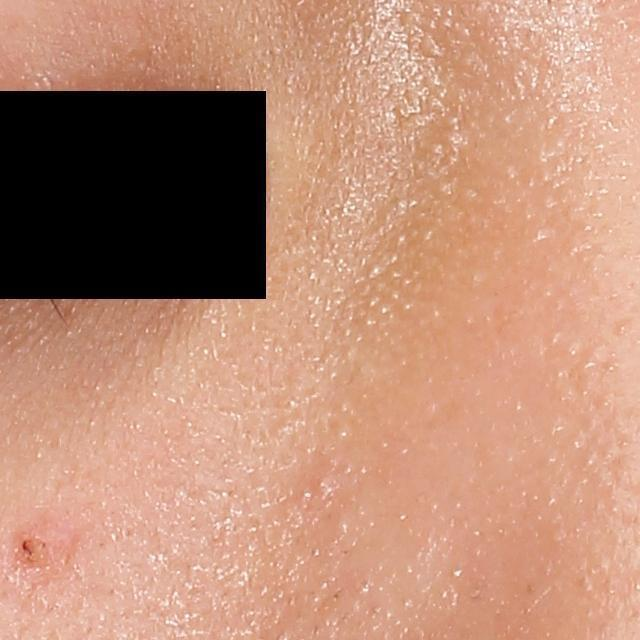papule: (11, 516, 76, 570)
